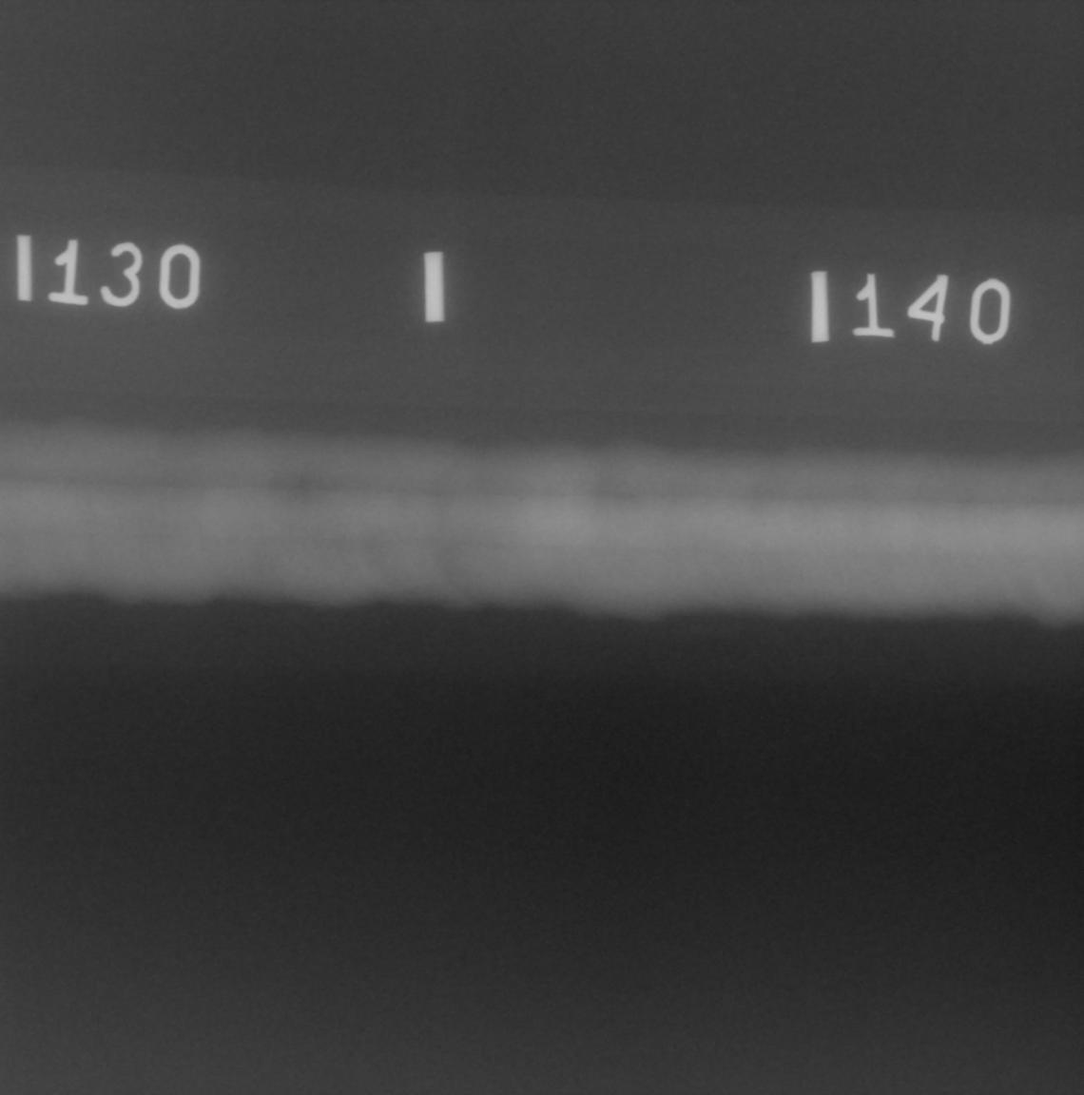Pore/Porosity: (518, 497, 524, 503)
